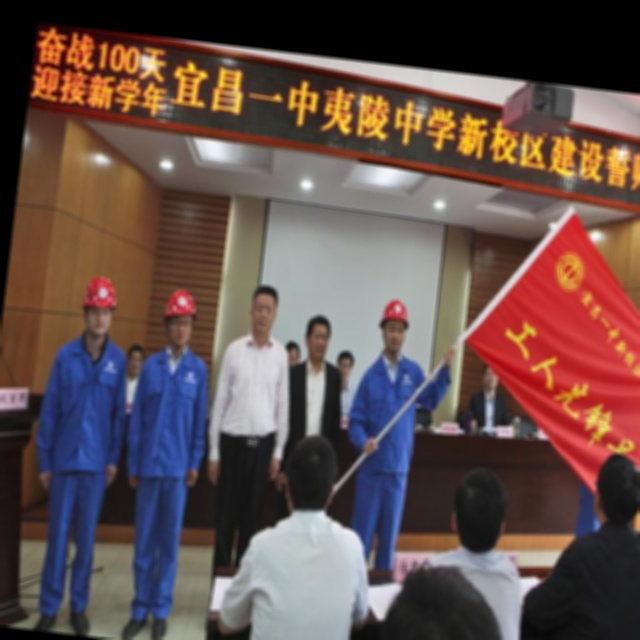Con_Casco: (79, 274, 119, 336), (377, 297, 414, 356), (162, 289, 198, 345)
Sin_Casco_Mascarrilla: (452, 467, 510, 559), (282, 433, 342, 514), (590, 452, 640, 533), (247, 282, 281, 337), (303, 313, 332, 364)
Sin_Chaleco: (240, 514, 368, 640), (44, 338, 126, 474), (131, 348, 207, 480), (218, 333, 292, 444), (357, 356, 425, 473)
